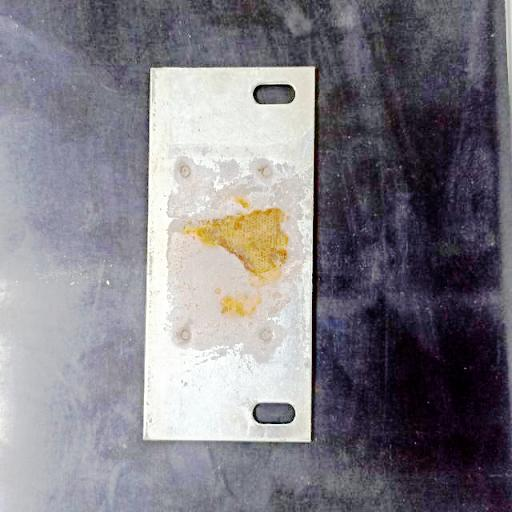corrosion: (179, 202, 298, 299)
